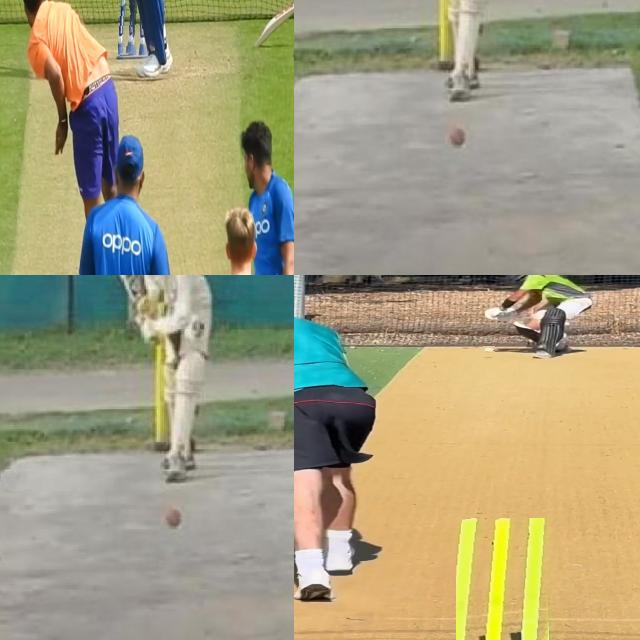Cricket ball: (447, 124, 467, 150), (163, 505, 183, 531), (483, 346, 495, 354)
Stumps: (456, 517, 559, 640), (118, 0, 146, 58)
